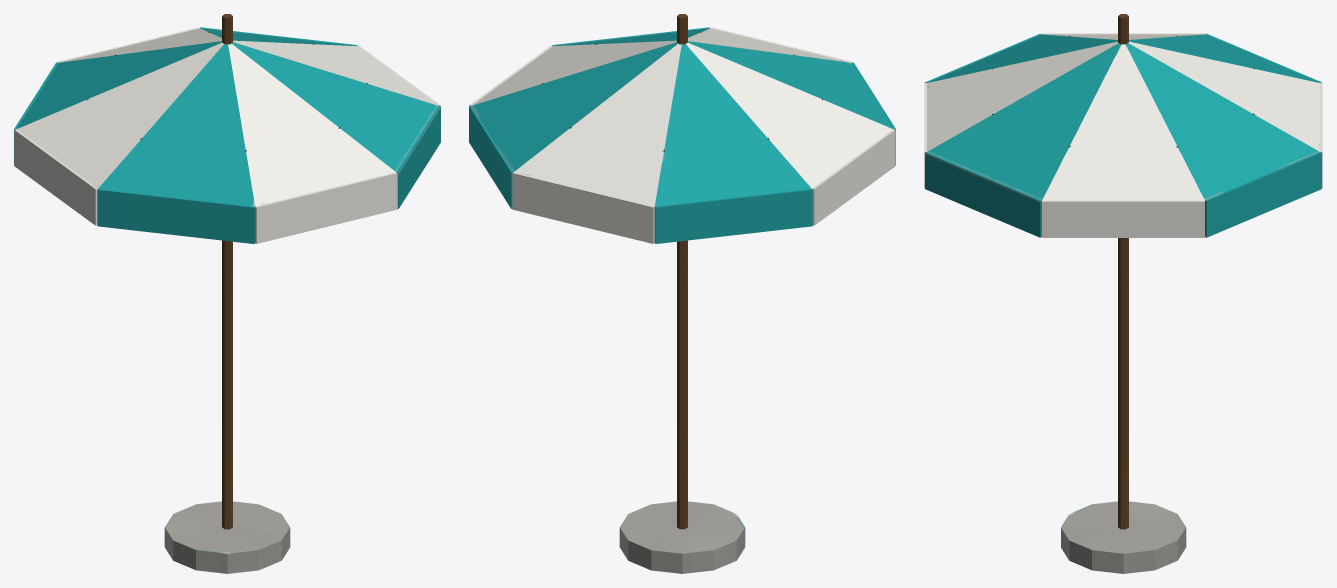
File: slunecnik_6a5c96df.glb
3 views of the same model, side by side, from view 1: azimuth 30°, elevation 25°; view 2: azimuth 150°, elevation 25°; view 3: azimuth 270°, elevation 25° (orthographic).
Parts seen in each view (by area): view 1: dum; view 2: dum; view 3: dum.
Part boxes in pixels (x1,y1,x2,y2): dum: (14, 14, 440, 573); dum: (469, 14, 895, 573); dum: (924, 14, 1322, 573).
Bounding box in the file's own units: 1.77 × 2.61 × 1.77.
1 material, 1 textured.
